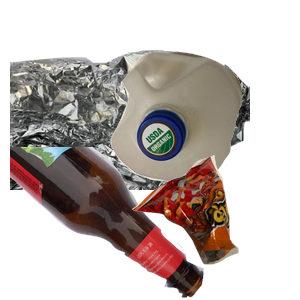glass: (10, 147, 207, 300)
metal: (10, 47, 250, 227)
plastic: (108, 49, 300, 226)
trash: (130, 153, 300, 300)
